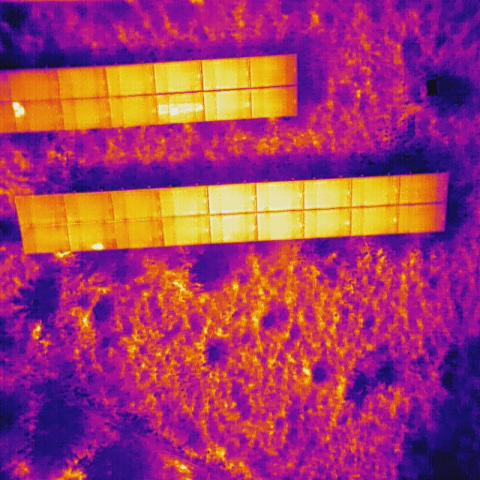fault: (156, 102, 203, 115), (11, 100, 27, 120), (90, 240, 103, 253)
